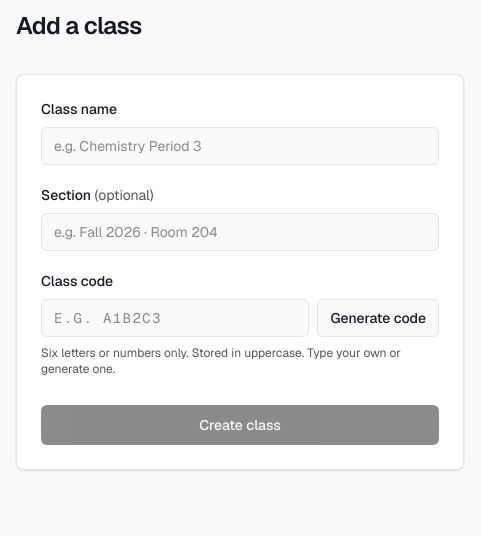
Scenario: create class form › keeps the entered values and shows an accessible error for a duplicate name and section
Step 1. Type "Chem 3" into the field labelled "Class name" → (240, 146), box [41,127,439,165]
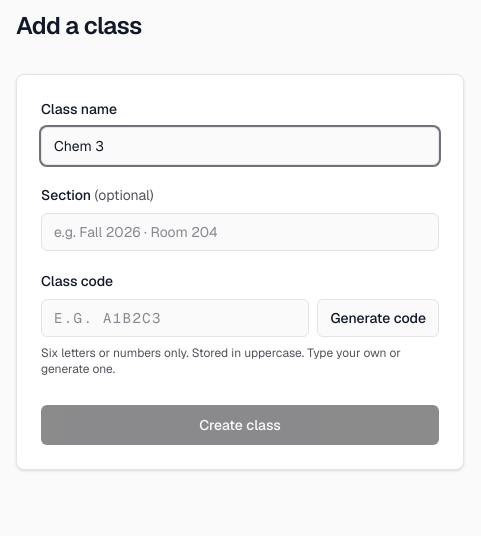
Step 2. Type "Room 204" into the field labelled "Section (optional)" → (240, 232), box [41,213,439,251]
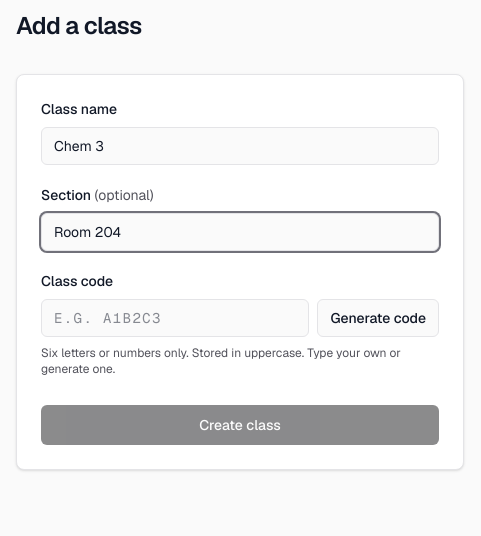
Step 3. Type "A1B2C3" into the field labelled "Class code" → (175, 318), box [41,299,309,337]
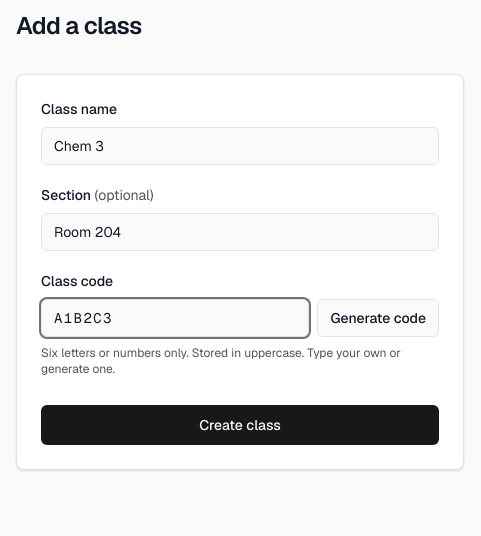
Step 4. Click the button "Create class" → (240, 425), box [41,405,439,445]
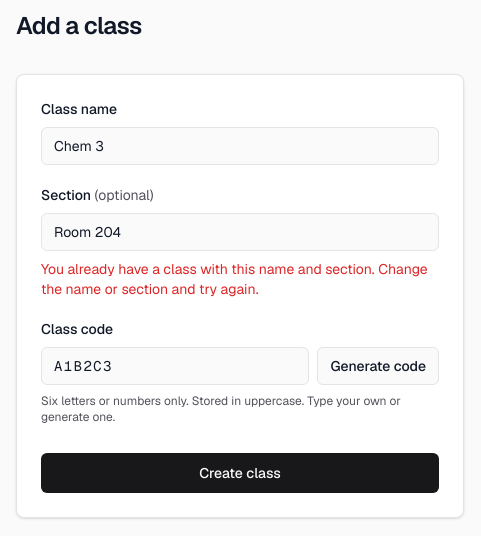
Now the message shows "already have a class with this name and section", box [41,260,428,298]
Step 5. Type "B" into the field labelled "Section (optional)" → (240, 232), box [41,213,439,251]
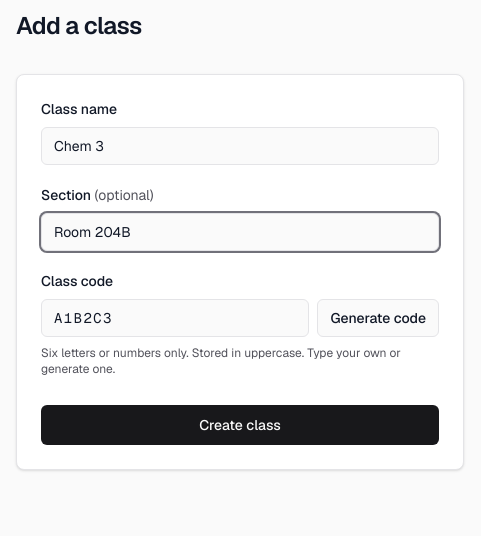
Now the message "You already have a class with this name and section. Change the name or section" is gone
